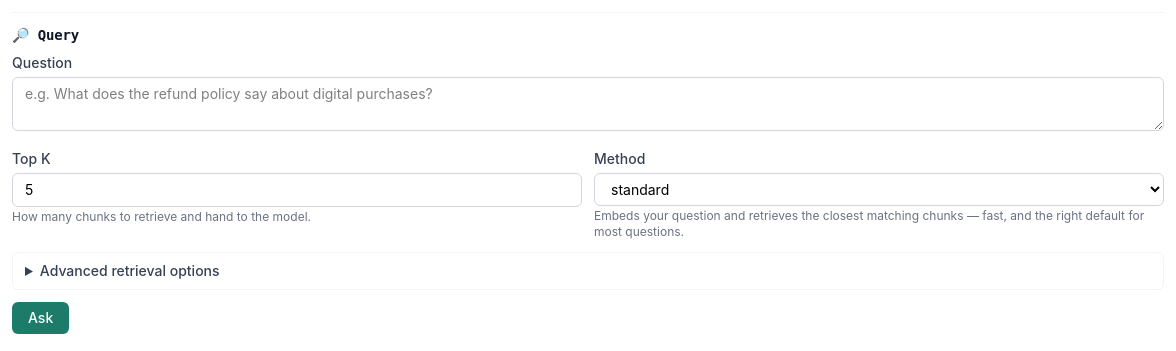
Test: QueryPanel › requires a question
Click the button "Ask" at {"x": 41, "y": 318}, box 12,302 -> 69,334
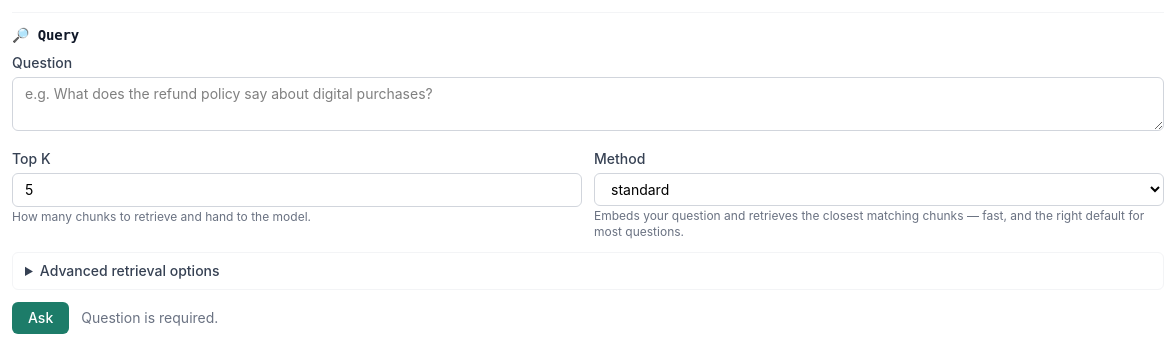
Result: the text "Question is required." is shown at 81,308 -> 218,328
